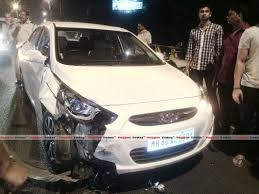Broken-glass: (61, 90, 103, 124)
Smashed: (34, 66, 119, 178)
